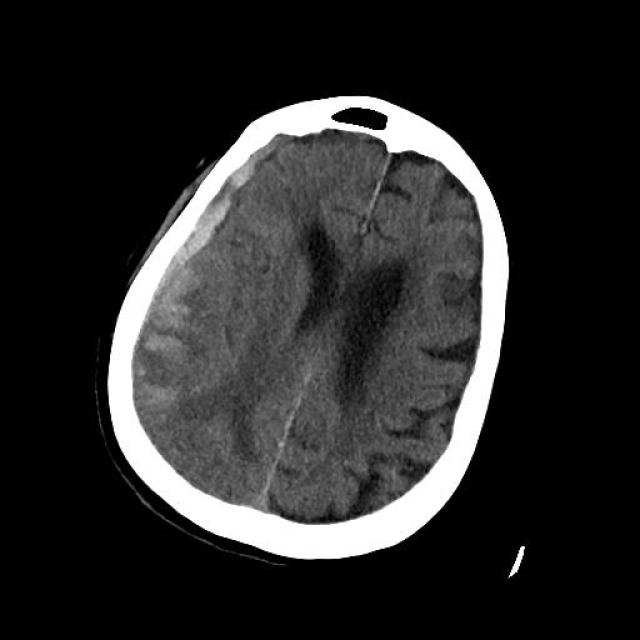Subarachnoid: (132, 282, 228, 422)
Subdural: (158, 129, 302, 269)
